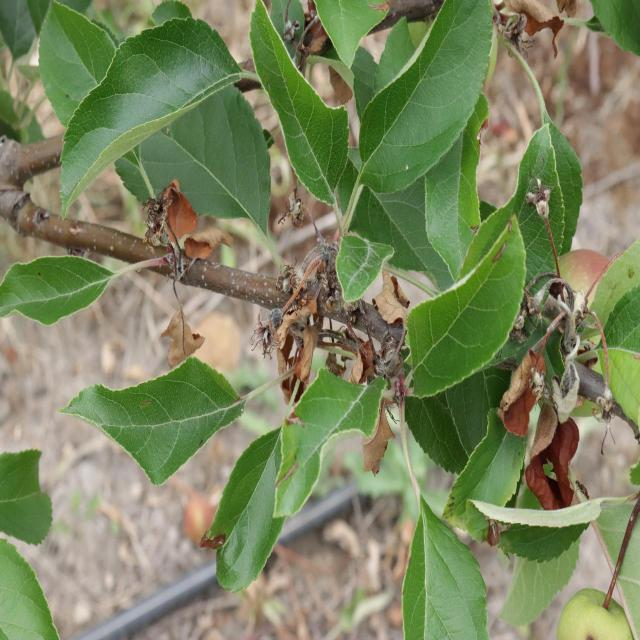-FireBlight-: (262, 290, 316, 395), (532, 404, 578, 513), (164, 188, 227, 258), (510, 344, 544, 439), (362, 395, 398, 471), (341, 332, 378, 391), (174, 302, 200, 364), (378, 272, 404, 334)
